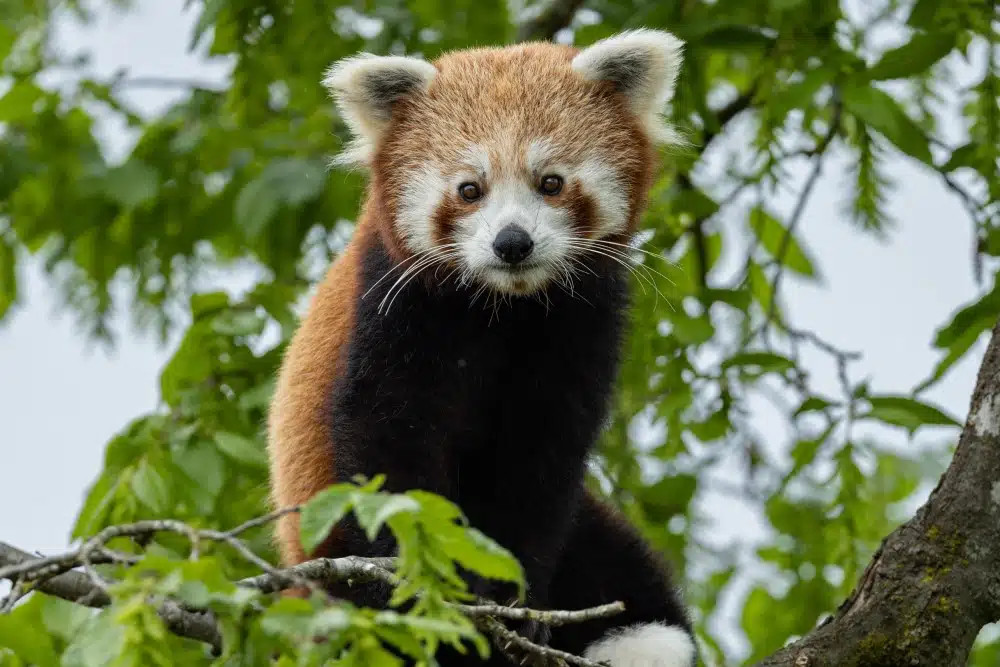Red panda: (317, 25, 689, 300)
